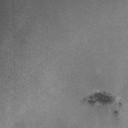iron sheet ash: (82, 91, 116, 107), (112, 110, 119, 117), (118, 102, 122, 106)
